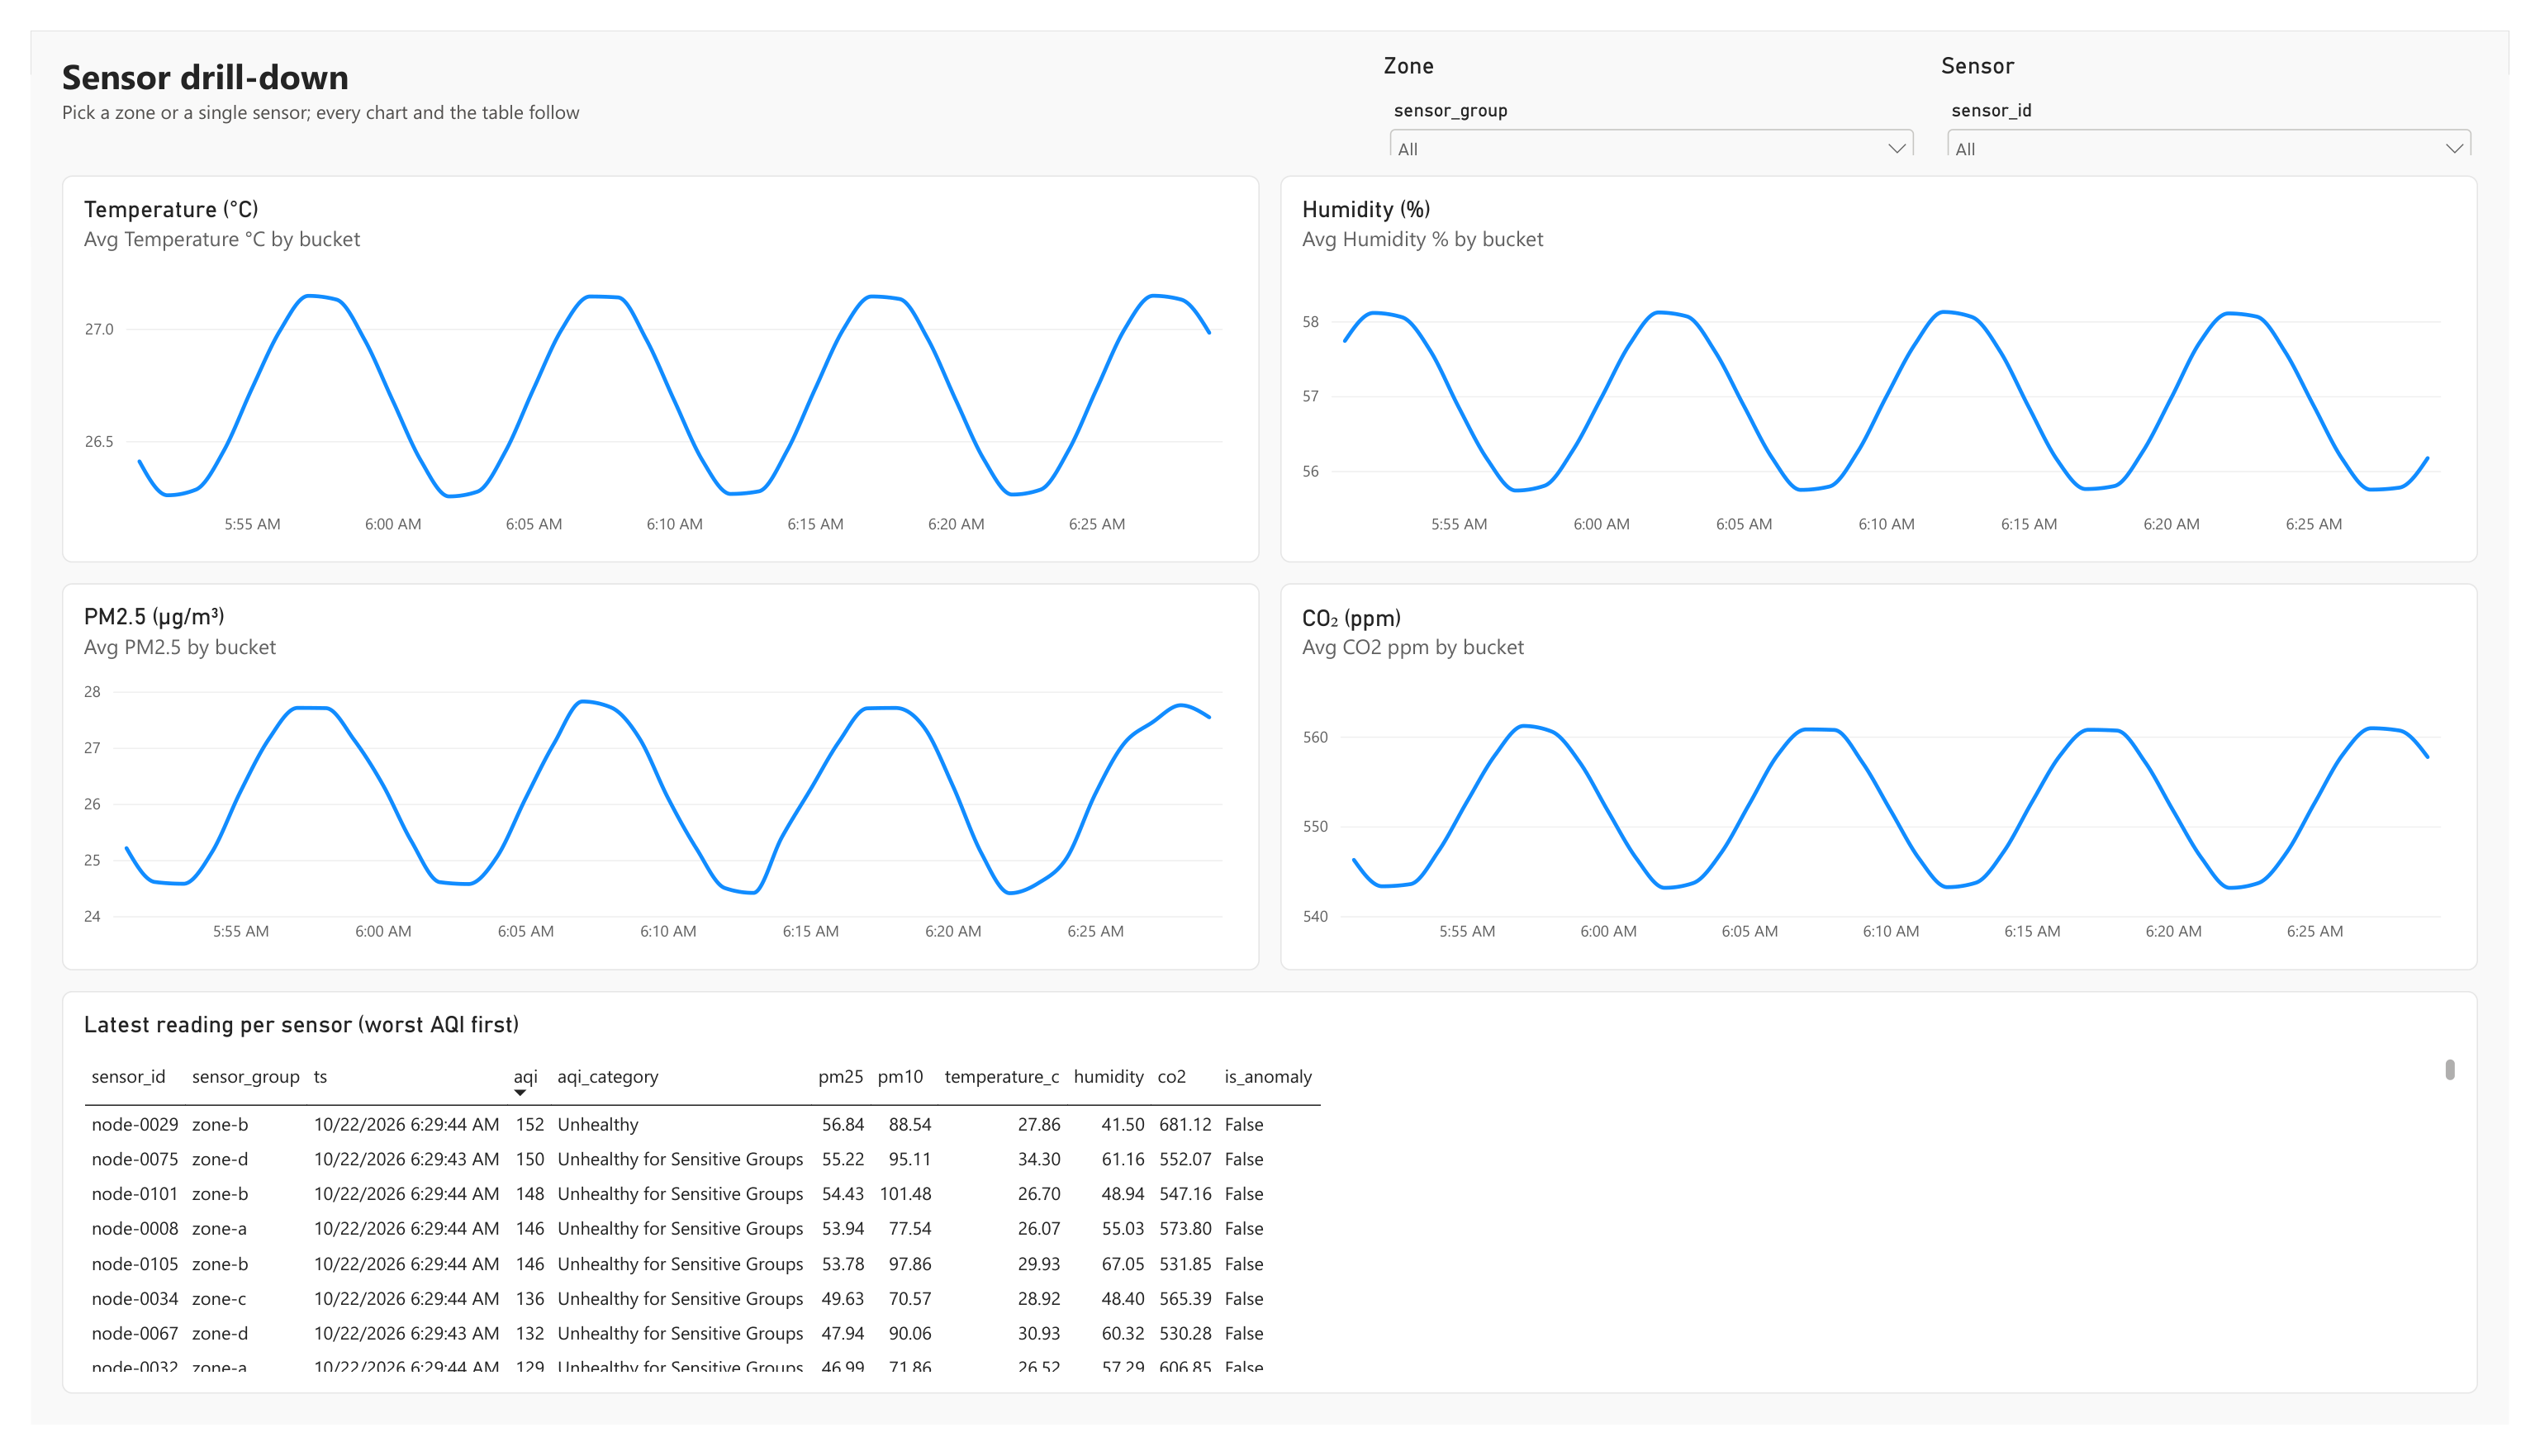

What the dashboard file says about the page in this screenshot:
{"tool":"powerbi","page":{"name":"Sensor drill-down","canvas":[1920,1080],"ordinal":1},"visuals":[{"type":"textbox","box":[24,16,1000,80],"z":0},{"type":"slicer","title":"Zone","fields":{"Values":["bi dim_sensor.sensor_group"]},"box":[1048,16,416,80],"z":1000},{"type":"slicer","title":"Sensor","fields":{"Values":["bi dim_sensor.sensor_id"]},"box":[1480,16,416,80],"z":2000},{"type":"lineChart","title":"Temperature (°C)","fields":{"Category":["bi fact_1m.bucket"],"Y":["bi fact_1m.Avg Temperature °C"]},"box":[24,112,928,300],"z":3000},{"type":"lineChart","title":"Humidity (%)","fields":{"Category":["bi fact_1m.bucket"],"Y":["bi fact_1m.Avg Humidity %"]},"box":[968,112,928,300],"z":4000},{"type":"lineChart","title":"PM2.5 (µg/m³)","fields":{"Category":["bi fact_1m.bucket"],"Y":["bi fact_1m.Avg PM2.5"]},"box":[24,428,928,300],"z":5000},{"type":"lineChart","title":"CO₂ (ppm)","fields":{"Category":["bi fact_1m.bucket"],"Y":["bi fact_1m.Avg CO2 ppm"]},"box":[968,428,928,300],"z":6000},{"type":"tableEx","title":"Latest reading per sensor (worst AQI first)","fields":{"Values":["bi latest_by_sensor.sensor_id","bi latest_by_sensor.sensor_group","bi latest_by_sensor.ts","bi latest_by_sensor.aqi","bi latest_by_sensor.aqi_category","bi latest_by_sensor.pm25","bi latest_by_sensor.pm10","bi latest_by_sensor.temperature_c","bi latest_by_sensor.humidity","bi latest_by_sensor.co2","bi latest_by_sensor.is_anomaly"]},"box":[24,744,1872,312],"z":7000}]}

Visuals, with their boxes on the page's 1920x1080 design canvas (x1, y1, x2, y2). These are canvas units, not pixel positions in the 2540x1456 screenshot, which may show the page scaled, cropped or inside an application window:
textbox: 24 16 1024 96
"Zone" slicer: 1048 16 1464 96
"Sensor" slicer: 1480 16 1896 96
"Temperature (°C)" lineChart: 24 112 952 412
"Humidity (%)" lineChart: 968 112 1896 412
"PM2.5 (µg/m³)" lineChart: 24 428 952 728
"CO₂ (ppm)" lineChart: 968 428 1896 728
"Latest reading per sensor (worst AQI first)" tableEx: 24 744 1896 1056
